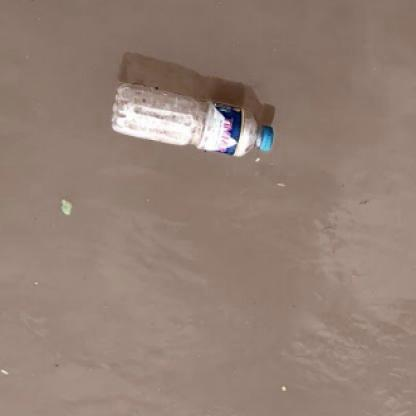Plastic: (103, 76, 282, 164)
